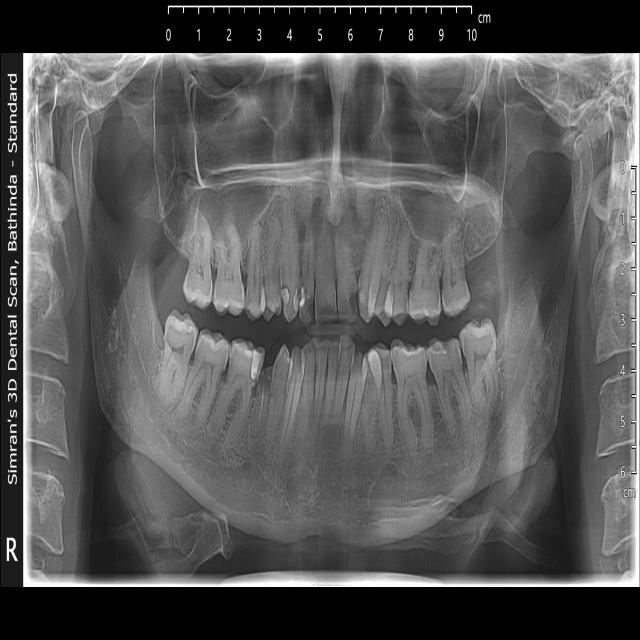Caries: (408, 274, 439, 321), (299, 290, 313, 318), (347, 290, 357, 312)
Filling: (227, 339, 265, 383), (164, 310, 196, 353), (281, 284, 303, 324)
Missing teeth: (469, 227, 498, 293)
Root Canal Treatment: (251, 369, 273, 440)
